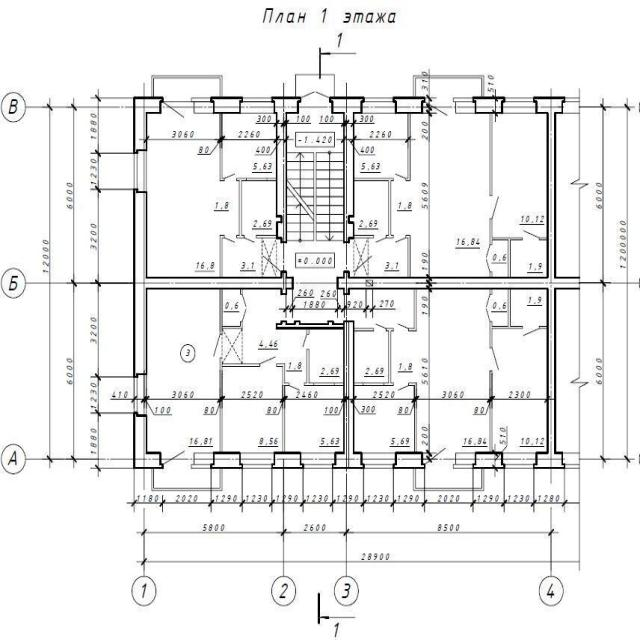Corridors: (243, 290, 306, 382), (350, 289, 414, 327), (350, 181, 388, 234), (243, 182, 281, 234), (288, 243, 343, 276), (288, 290, 343, 322), (355, 331, 388, 382), (310, 330, 343, 381), (223, 238, 261, 277), (370, 240, 406, 276), (512, 289, 547, 325), (512, 241, 547, 276), (154, 469, 219, 487), (154, 78, 219, 96), (416, 470, 481, 487), (416, 79, 480, 96), (296, 76, 334, 96), (225, 182, 237, 234), (224, 289, 240, 326), (493, 289, 507, 325), (493, 241, 507, 276)
Doors: (161, 96, 194, 121), (424, 444, 455, 469), (299, 89, 331, 113), (423, 96, 455, 117), (161, 449, 193, 469), (293, 276, 337, 289), (489, 195, 501, 221), (219, 182, 225, 234), (490, 348, 502, 373), (483, 244, 493, 273), (212, 334, 223, 359), (483, 295, 492, 324), (521, 228, 541, 241), (240, 294, 249, 322), (522, 325, 540, 339), (259, 354, 277, 367), (393, 320, 410, 331), (300, 332, 310, 350), (289, 382, 305, 393), (393, 170, 407, 182), (394, 382, 409, 393), (374, 234, 387, 246), (224, 171, 237, 183), (373, 321, 388, 331), (393, 235, 406, 246), (224, 234, 237, 245), (282, 243, 287, 270), (344, 243, 349, 270), (281, 295, 286, 321), (344, 294, 349, 320), (244, 234, 256, 244), (363, 383, 385, 387), (246, 178, 267, 182), (314, 382, 335, 386)
LBwalls: (336, 96, 581, 469), (133, 188, 294, 378), (327, 96, 366, 244), (332, 320, 366, 469), (270, 96, 302, 243), (133, 411, 164, 470), (133, 96, 164, 154), (275, 320, 343, 330), (273, 452, 302, 469), (474, 452, 503, 469), (394, 97, 424, 113), (212, 452, 242, 468), (394, 452, 424, 468), (475, 97, 504, 113), (212, 97, 241, 113)
Offices: (392, 114, 489, 276), (392, 290, 489, 451), (148, 114, 220, 276), (148, 290, 219, 451), (493, 114, 547, 237), (494, 330, 547, 451), (556, 289, 591, 452), (557, 113, 590, 277), (223, 368, 281, 452), (355, 387, 414, 451), (286, 386, 343, 452), (355, 115, 408, 177), (224, 114, 275, 177)
Stairs: (287, 114, 344, 243)
Walls: (354, 177, 394, 239), (489, 290, 523, 348), (490, 219, 523, 277), (413, 468, 485, 491), (412, 75, 485, 97), (151, 469, 223, 491), (151, 75, 223, 97), (276, 363, 289, 452), (235, 177, 247, 239), (384, 327, 394, 386), (409, 382, 417, 451), (303, 348, 314, 388), (219, 113, 225, 183), (408, 289, 417, 332), (219, 359, 223, 452), (406, 113, 411, 182), (489, 113, 493, 195), (489, 371, 493, 452), (404, 235, 411, 278), (220, 234, 225, 277), (223, 321, 243, 329), (223, 363, 260, 367), (220, 289, 223, 334), (256, 234, 277, 239), (354, 327, 374, 332), (354, 234, 374, 239), (335, 382, 344, 387), (354, 382, 364, 386), (267, 177, 276, 181), (540, 325, 548, 329), (540, 237, 547, 241), (306, 329, 310, 335), (489, 290, 492, 296), (490, 271, 493, 277), (240, 288, 243, 294)
Windows: (240, 96, 274, 113), (362, 97, 396, 114), (502, 97, 536, 114), (503, 452, 536, 469), (362, 452, 395, 469), (302, 452, 334, 469), (134, 374, 147, 415), (134, 151, 147, 192), (241, 452, 274, 468), (455, 96, 476, 113), (193, 452, 214, 469), (455, 452, 476, 469), (194, 98, 214, 113), (563, 452, 580, 469), (563, 97, 579, 113)
